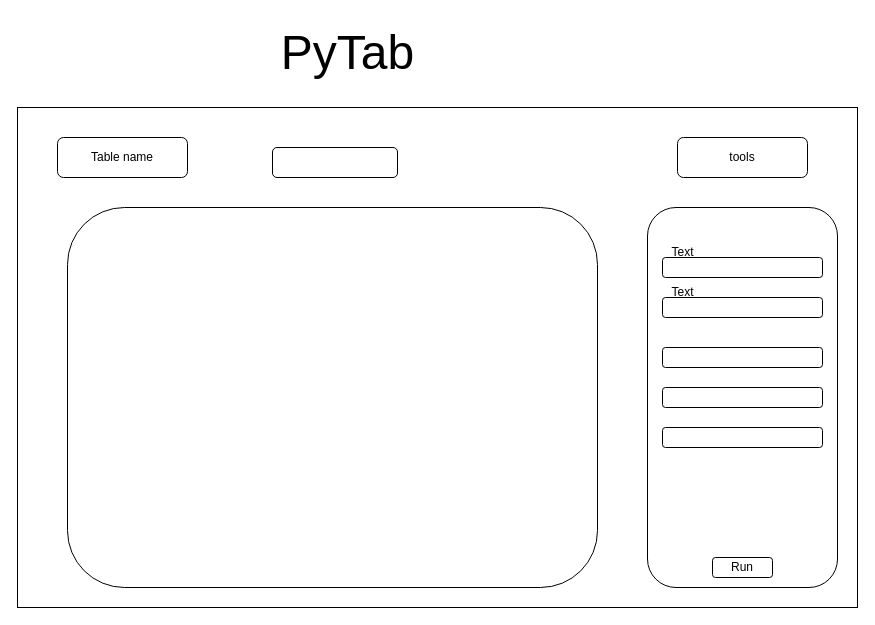
Some shapes in this 875 by 625 pixel diagram are drawn without their labels. The centre of each missing label's shape, as x and y in pixels:
"btn Run Py" goes at [335,162].
"Table" goes at [332,397].
